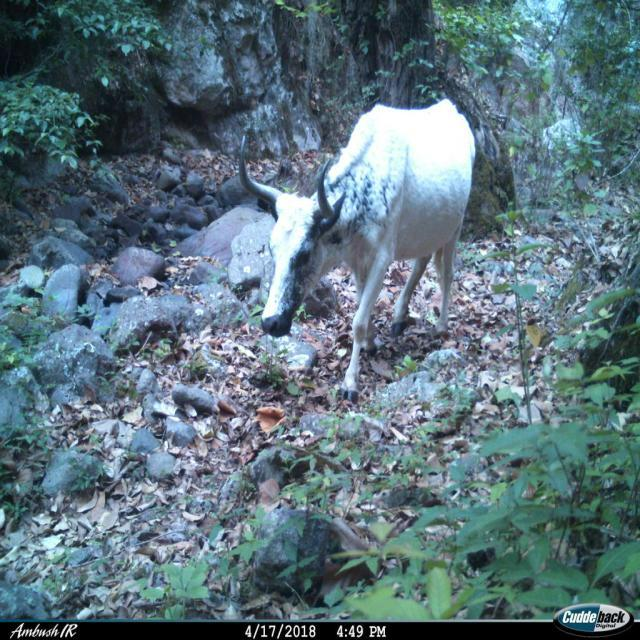cow: (239, 99, 475, 399)
